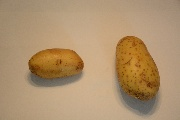potato: (116, 34, 161, 103), (29, 48, 85, 79)
